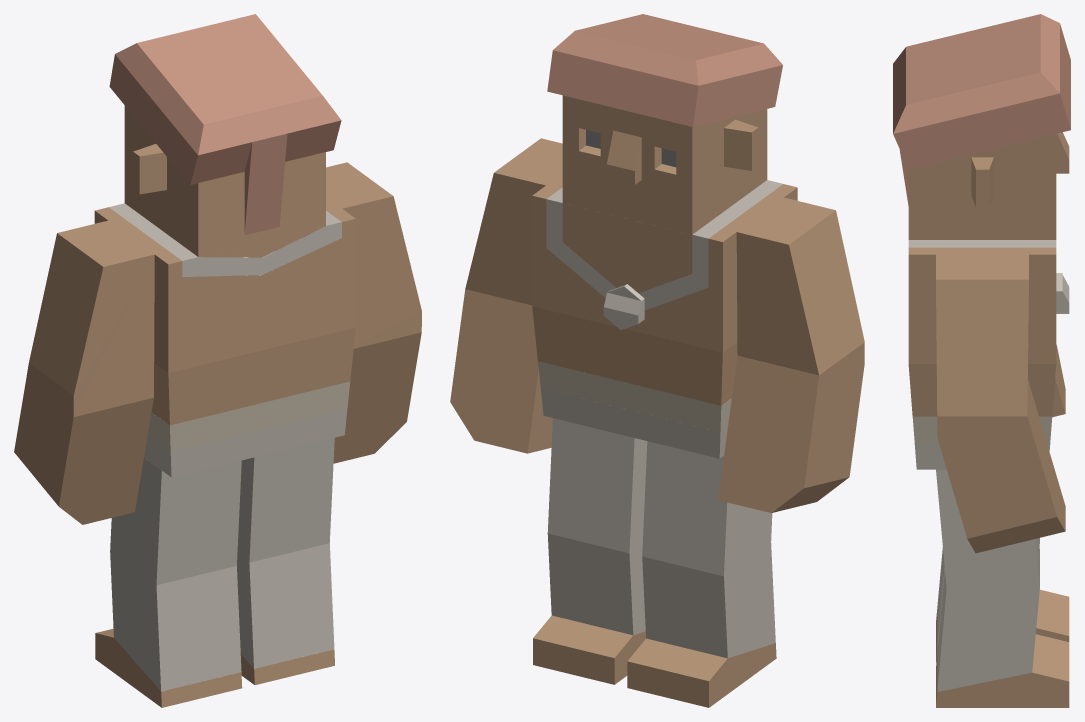
File: enemy-boss.glb
3 views of the same model, side by side, from view 1: azimuth 30°, elevation 25°; view 2: azimuth 150°, elevation 25°; view 3: azimuth 270°, elevation 25° (orthographic).
Parts seen in each view (by area): view 1: armLeft 1_0_0, body 1_2_0, Group 143.001_3_0, legLeft 1_5_0, legRight 1_6_0, armRight 1_1_0, Group 143_4_0, body 1_2_1, body 1_2_2, legLeft 1_5_1, legRight 1_6_1; view 2: armLeft 1_0_0, body 1_2_0, legLeft 1_5_0, armRight 1_1_0, Group 143_4_0, Group 143.001_3_0, legRight 1_6_0, body 1_2_1, legLeft 1_5_1, body 1_2_2, legRight 1_6_1; view 3: armRight 1_1_0, Group 143.001_3_0, legRight 1_6_0, Group 143_4_0, body 1_2_0, legRight 1_6_1, body 1_2_1, legLeft 1_5_1, body 1_2_2, armLeft 1_0_0, legLeft 1_5_0.
Part boxes in pixels (x1,y1,x2,y2): armLeft 1_0_0: (14,220,154,524); body 1_2_0: (94,197,355,425); Group 143.001_3_0: (109,14,341,235); legLeft 1_5_0: (110,457,241,691); legRight 1_6_0: (237,438,334,668); armRight 1_1_0: (304,162,421,463); Group 143_4_0: (124,105,325,256); body 1_2_1: (109,203,347,477); body 1_2_2: (148,381,350,451); legLeft 1_5_1: (95,628,242,707); legRight 1_6_1: (240,649,334,684); armLeft 1_0_0: (718,197,864,512); body 1_2_0: (532,173,797,405); legLeft 1_5_0: (642,441,775,658); armRight 1_1_0: (450,138,562,453); Group 143_4_0: (562,95,767,234); Group 143.001_3_0: (547,14,782,126); legRight 1_6_0: (547,418,647,635); body 1_2_1: (540,180,782,458); legLeft 1_5_1: (627,638,776,707); body 1_2_2: (538,361,731,432); legRight 1_6_1: (533,615,645,684); armRight 1_1_0: (936,254,1065,553); Group 143.001_3_0: (893,14,1070,205); legRight 1_6_0: (936,469,1039,691); Group 143_4_0: (908,132,1069,239); body 1_2_0: (908,247,1056,416); legRight 1_6_1: (936,634,1069,707); body 1_2_1: (908,240,1069,469); legLeft 1_5_1: (936,589,1069,662); body 1_2_2: (912,416,1052,443); armLeft 1_0_0: (1052,344,1065,417); legLeft 1_5_0: (937,538,1039,646).
Size of the model in its own units: 0.6239 by 1.06 by 0.275.
